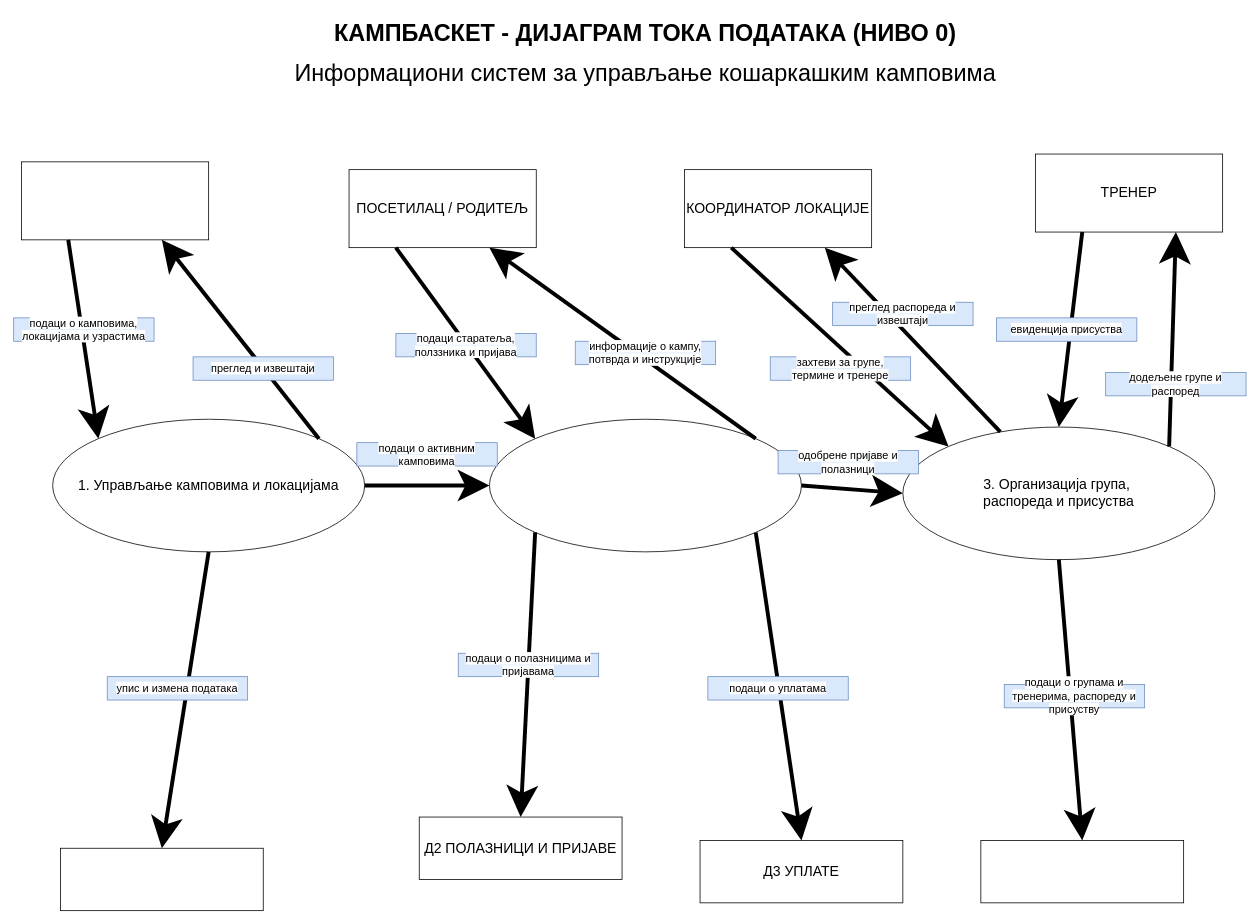
This 1260x924 diagram has some shape labels left out. Here are the shapes that lost their labels. From the top down, the centre of each, then its label:
At (115,200): "АДМИНИСТРАТОР".
At (645,485): "2. Регистрација и обрада пријава и уплата".
At (161,879): "Д1 КАМПОВИ И ЛОКЦИЈЕ".
At (1082,871): "Д4 ГРУПЕ, ТРЕНЕРИ, РАСПОРЕД И ПРИСУСТВО".
